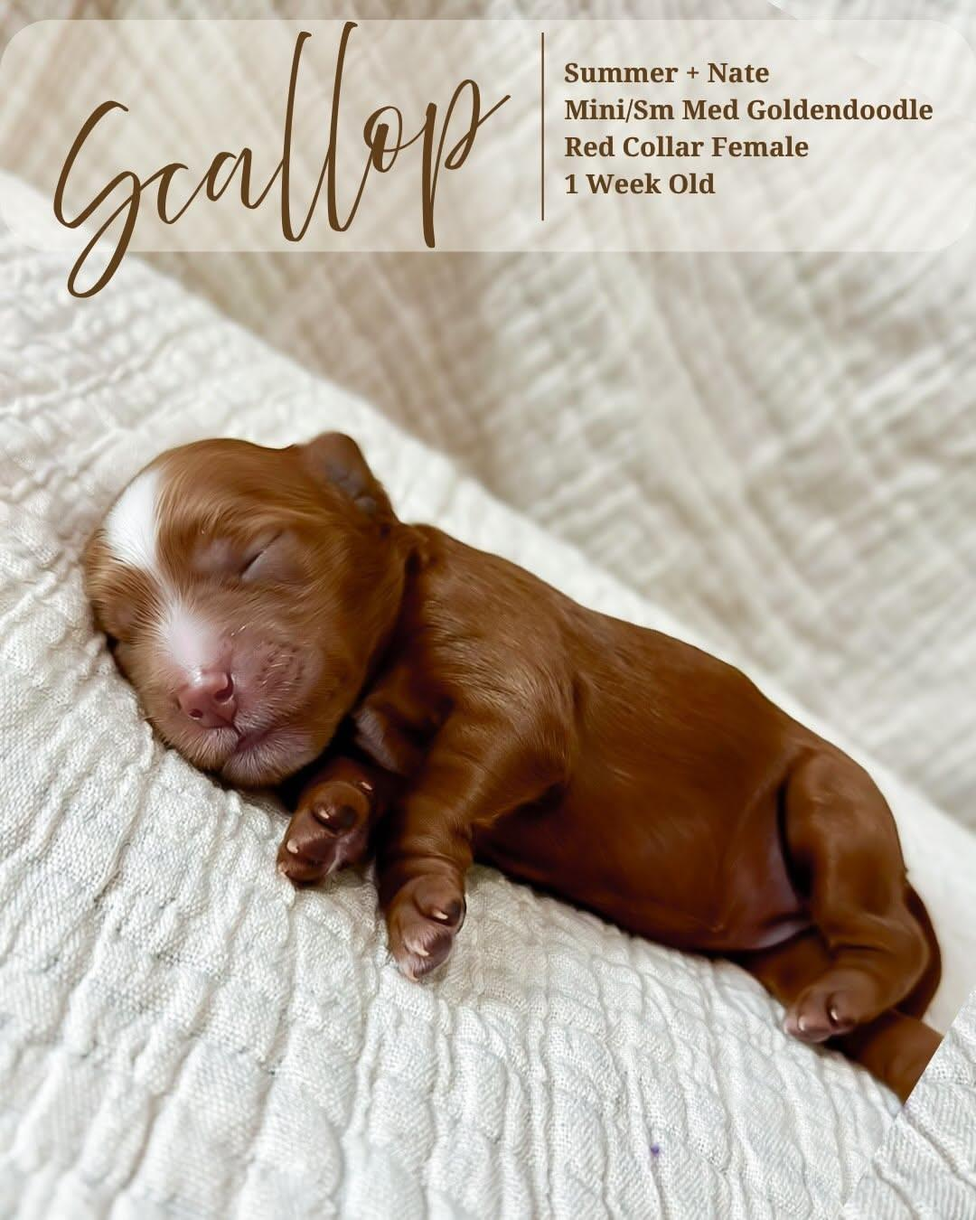puppy-dog: (79, 430, 945, 1103)
